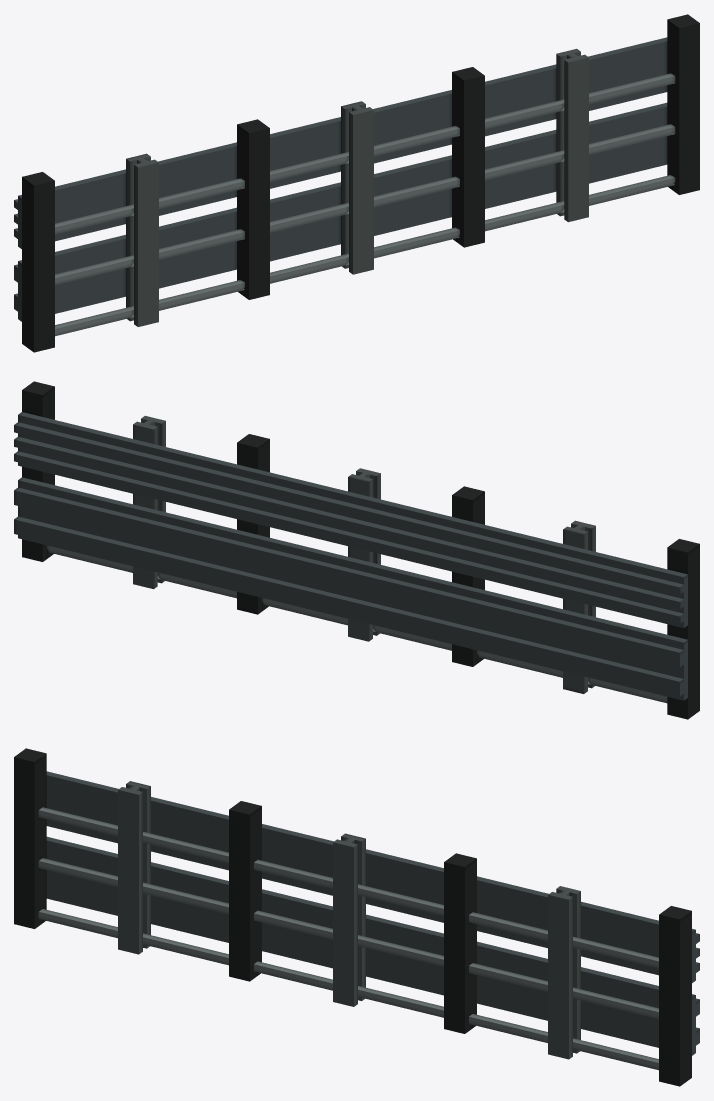
File: blokada_most_3x.dae
3 views of the same model, one above another, from view 1: azimuth 30°, elevation 25°; view 2: azimuth 150°, elevation 25°; view 3: azimuth 330°, elevation 25° (orthographic).
Visible parts, largest first — view 1: Content; view 2: Content; view 3: Content.
Part boxes in pixels (x1,y1,x2,y2): Content: (14,14,699,352); Content: (14,381,699,719); Content: (14,748,699,1086).
Size of the model in its own units: 96 by 23 by 5.
1 material, 1 textured.
